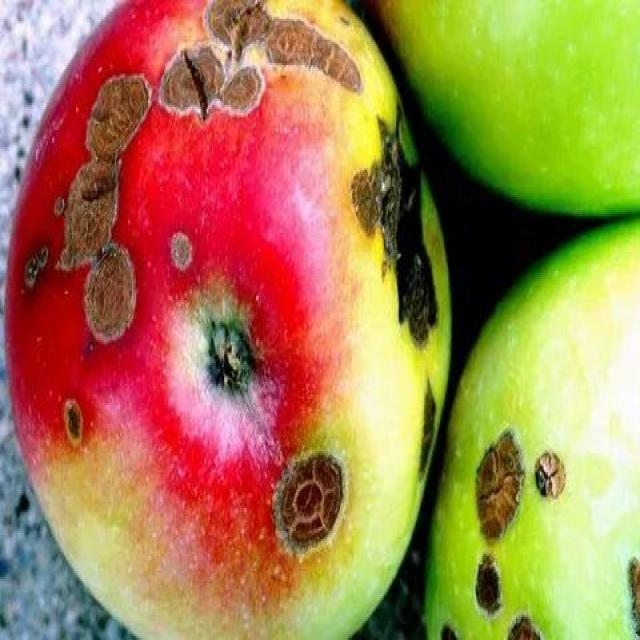Rotten: (33, 0, 467, 640)
